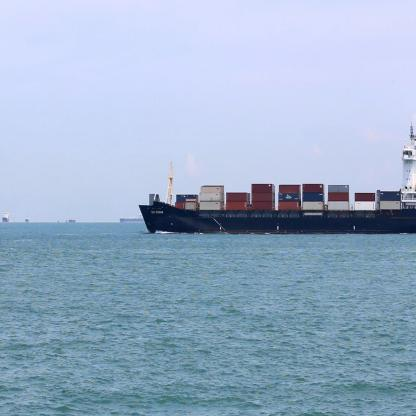Container Ship: (136, 138, 416, 235), (1, 207, 11, 227), (64, 214, 76, 228), (22, 212, 30, 224), (54, 213, 60, 228)
